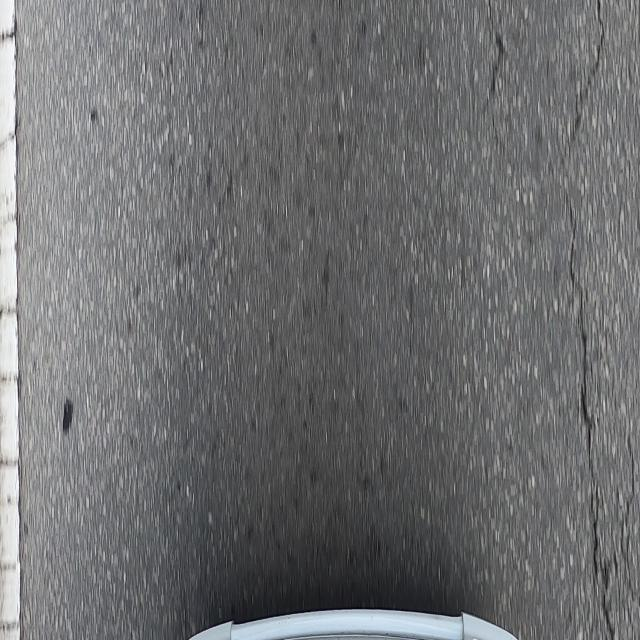Retak-Memanjang: (557, 0, 608, 600)
